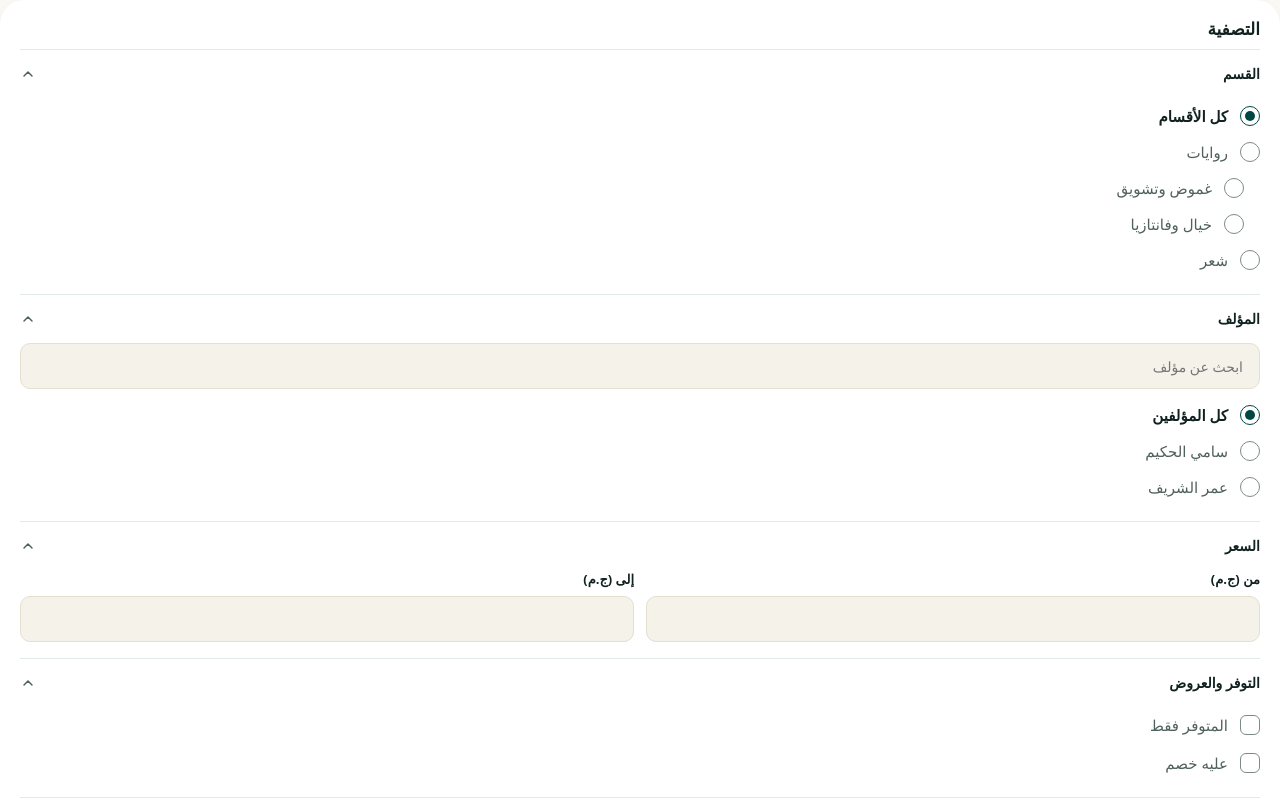
Test: price range › clears the error once the range is valid again
Type "abc" into the field labelled "من (ج.م)" at (953, 619), box [646, 596, 1260, 642]
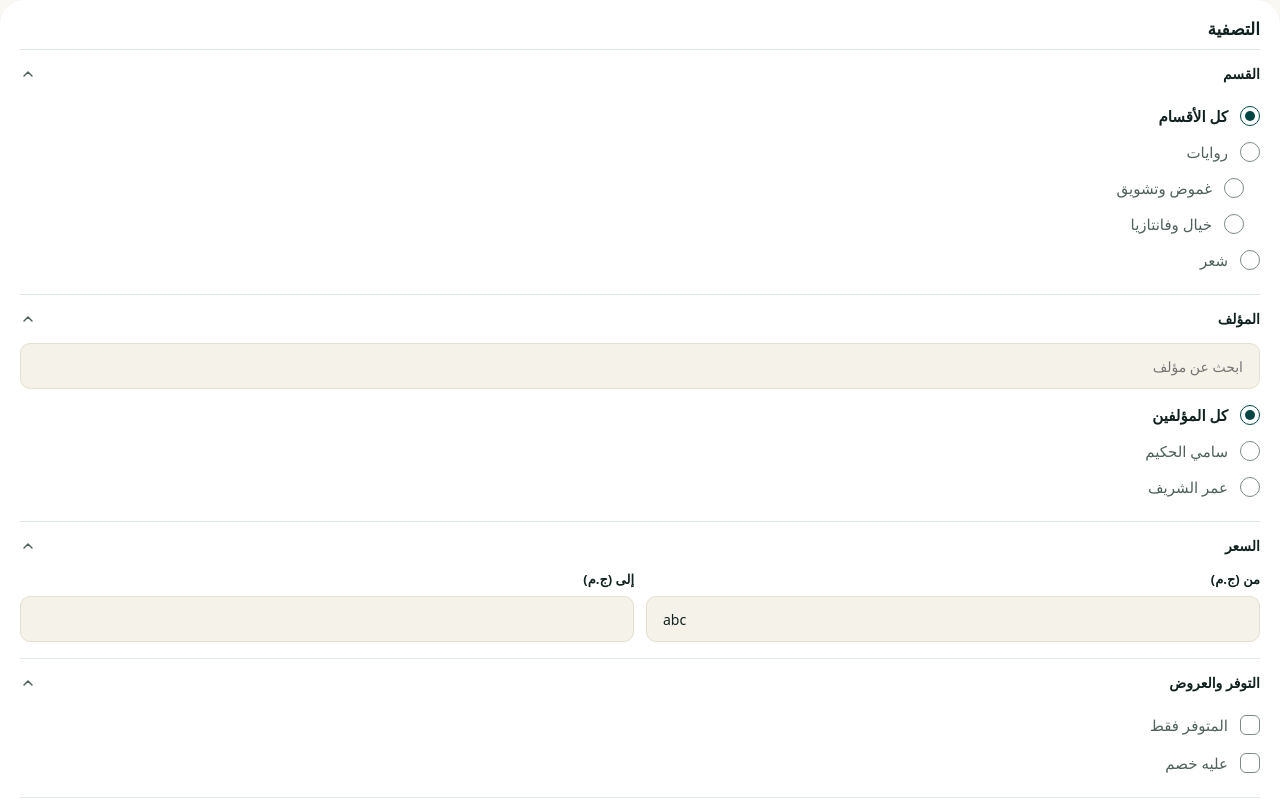
Press Enter in the field labelled "من (ج.م)", box [646, 596, 1260, 642]
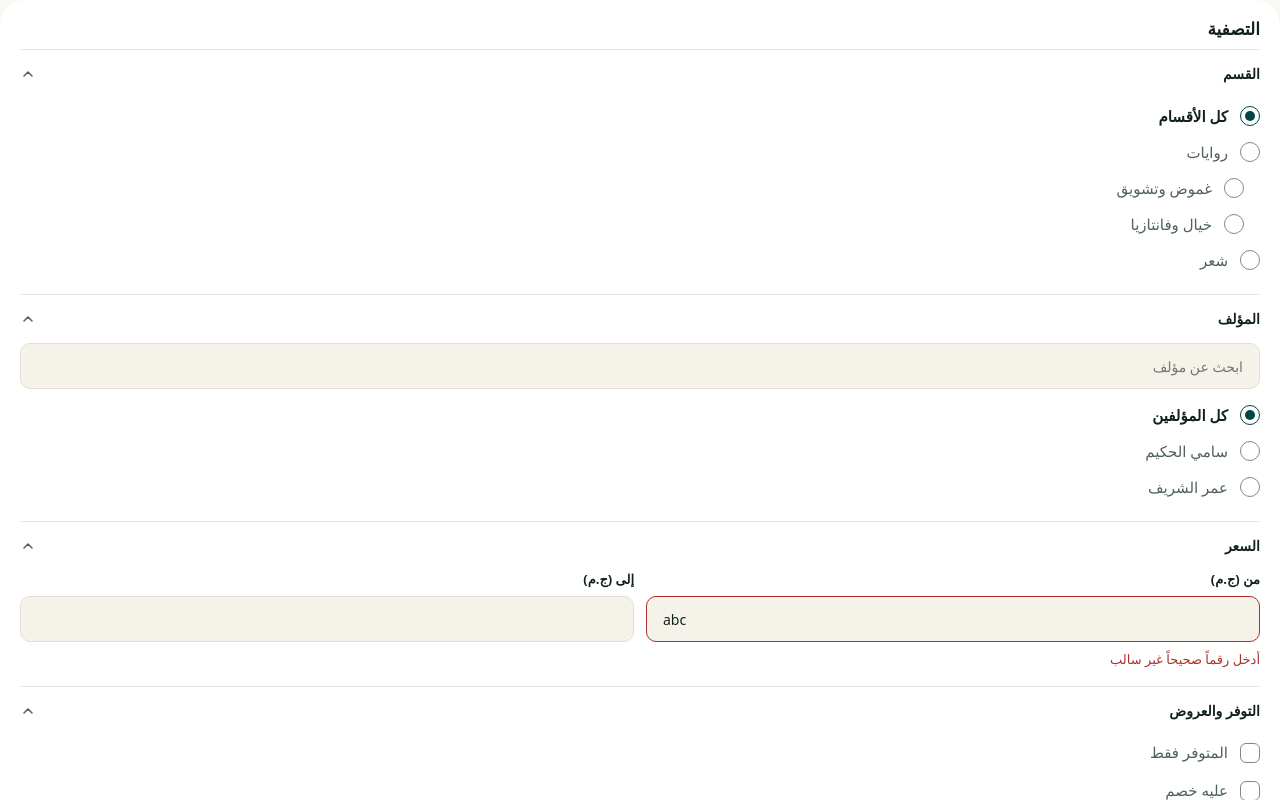
Result: the text "أدخل رقماً صحيحاً غير سالب" is shown at [1110, 650, 1260, 668]
Replace the text in the field labelled "من (ج.م)" with "20" at (953, 619), box [646, 596, 1260, 642]
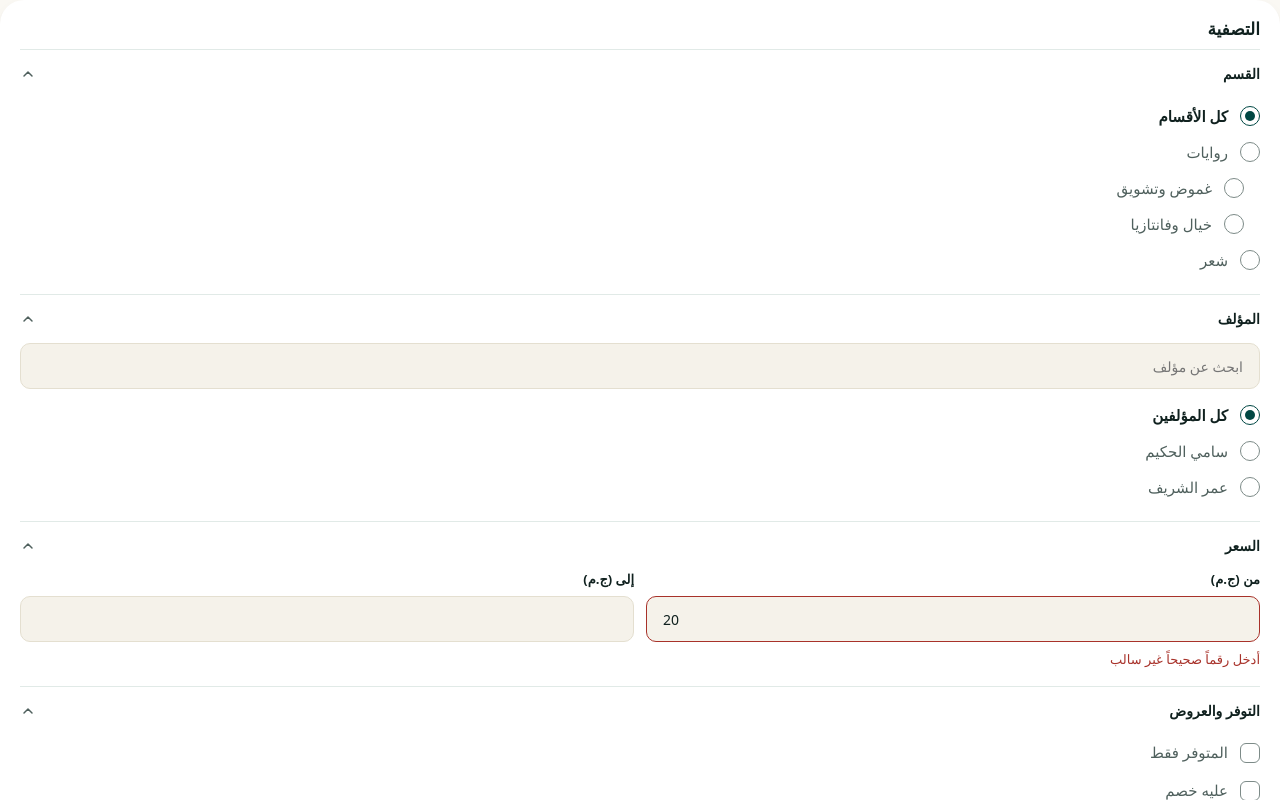
Press Enter in the field labelled "من (ج.م)", box [646, 596, 1260, 642]
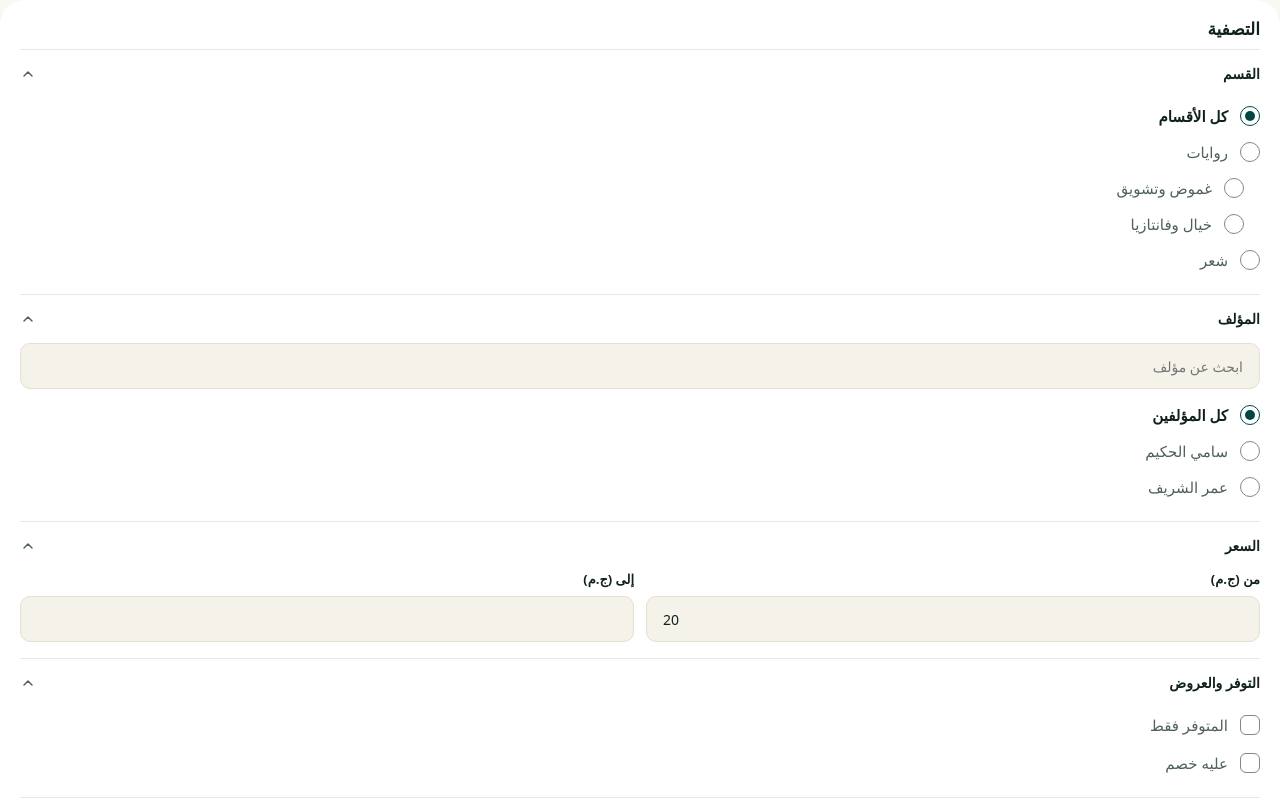
Result: the text "أدخل رقماً صحيحاً غير سالب" is gone
